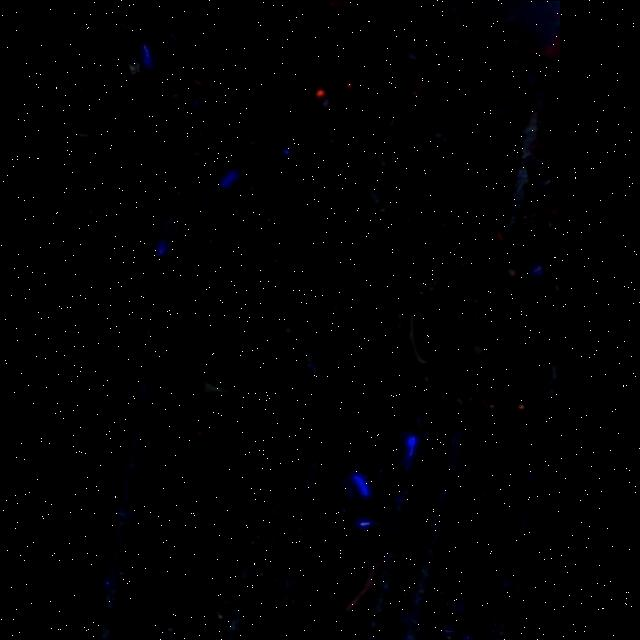Fibre: (201, 374, 231, 393)
